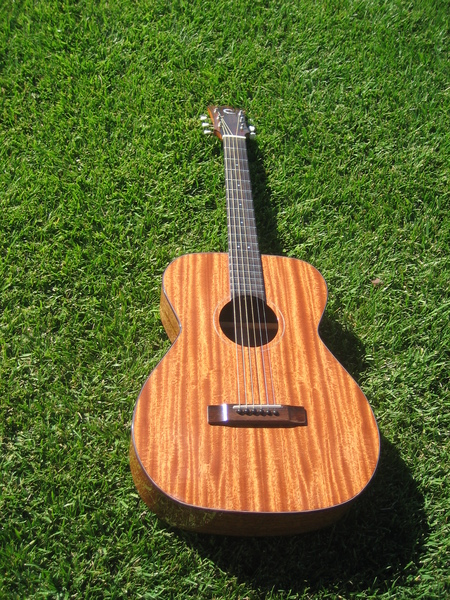guitar: (129, 107, 382, 540)
